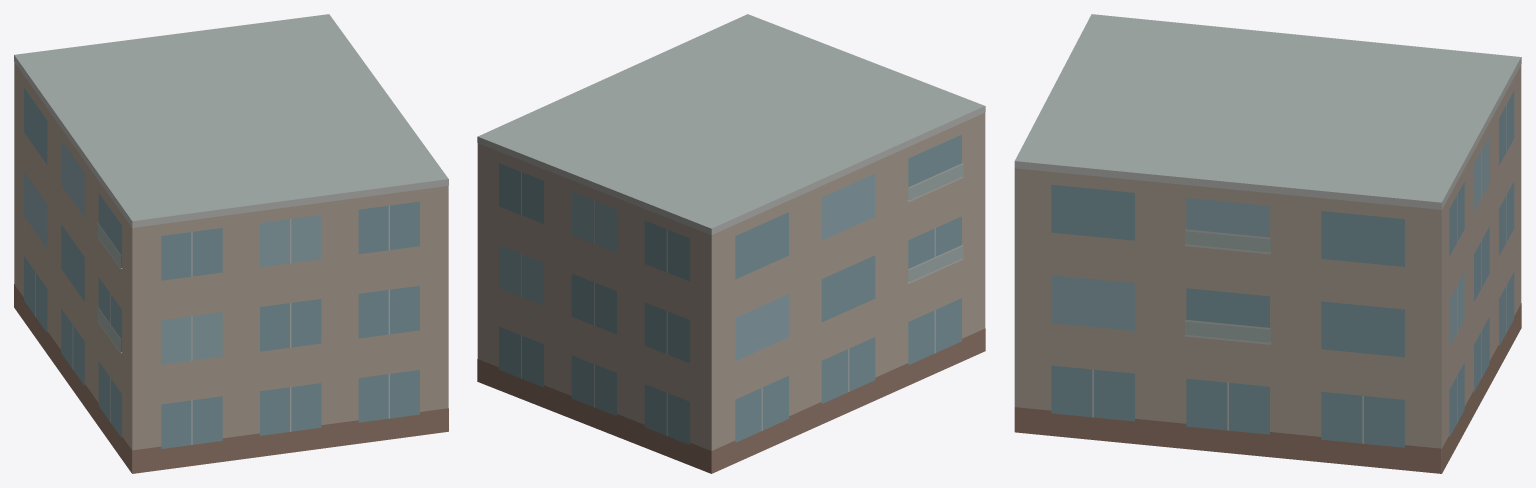
Rendered from survey-upis-32541222.glb.
3 views of the same model, side by side, from view 1: azimuth 30°, elevation 25°; view 2: azimuth 150°, elevation 25°; view 3: azimuth 270°, elevation 25° (orthographic). The views are drawn at different scales.
Parts seen in each view (by area): view 1: survey-upis-32541222.tmp; view 2: survey-upis-32541222.tmp; view 3: survey-upis-32541222.tmp.
Part boxes in pixels (x1,y1,x2,y2): survey-upis-32541222.tmp: (14, 14, 448, 473); survey-upis-32541222.tmp: (477, 14, 985, 473); survey-upis-32541222.tmp: (1014, 14, 1521, 473).
Size of the model in its own units: 13.66 by 9.15 by 15.51.
